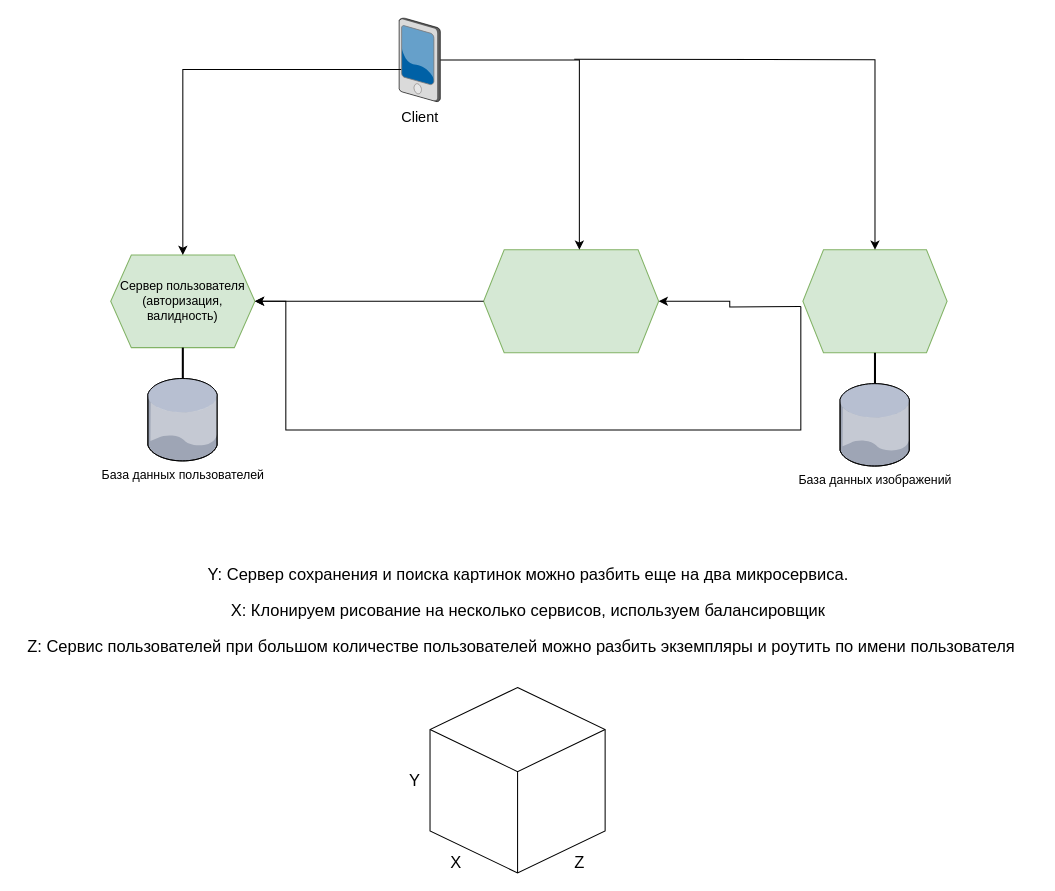
Some shapes in this 1055 by 891 pixel diagram are drawn without their labels. The shapes that lost their labels are listed below. From the top down, each one's centre as x and y in pixels, then its label:
At (571,301): "Сервис по созданию векторного изображения".
At (874,301): "Сервер сохранения и поиска картинок".
